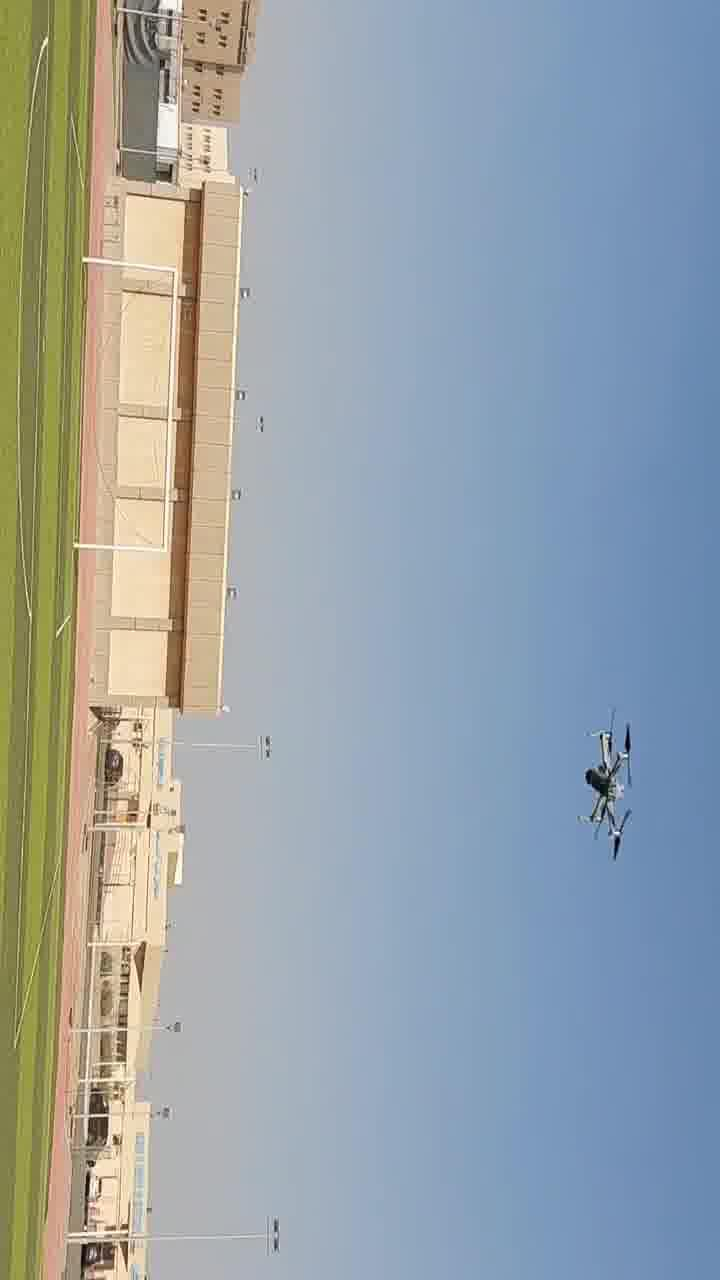drone: (393, 142, 490, 252)
